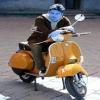motorcycles: (16, 30, 94, 100)
